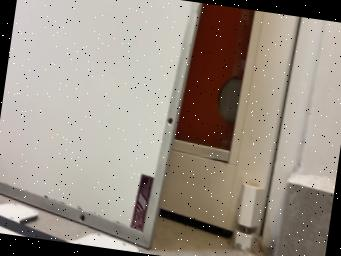street: (0, 215, 69, 243)
